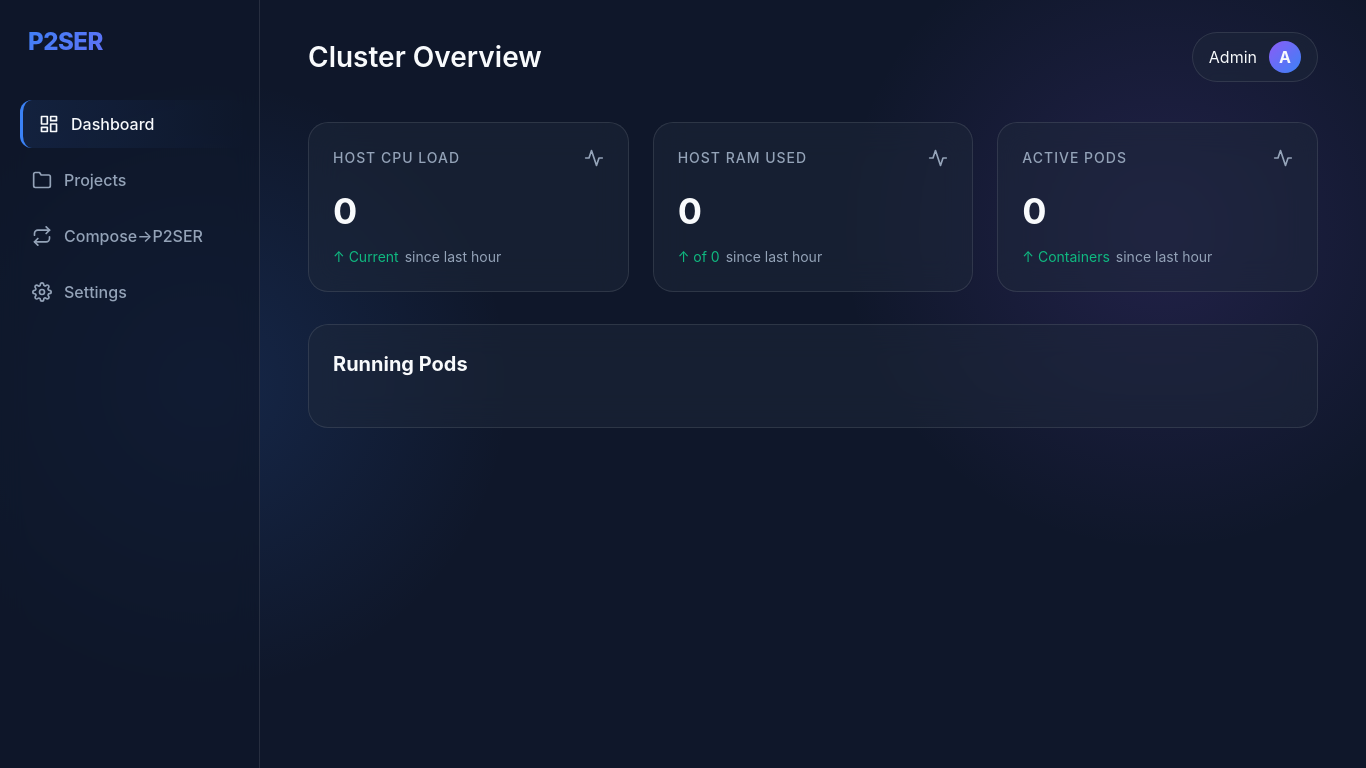
App: Navigation › should switch to Projects tab
This screenshot has width=1366, height=768.
Step 1. Click the list item "Projects" → [79, 180], box [32,170,126,190]
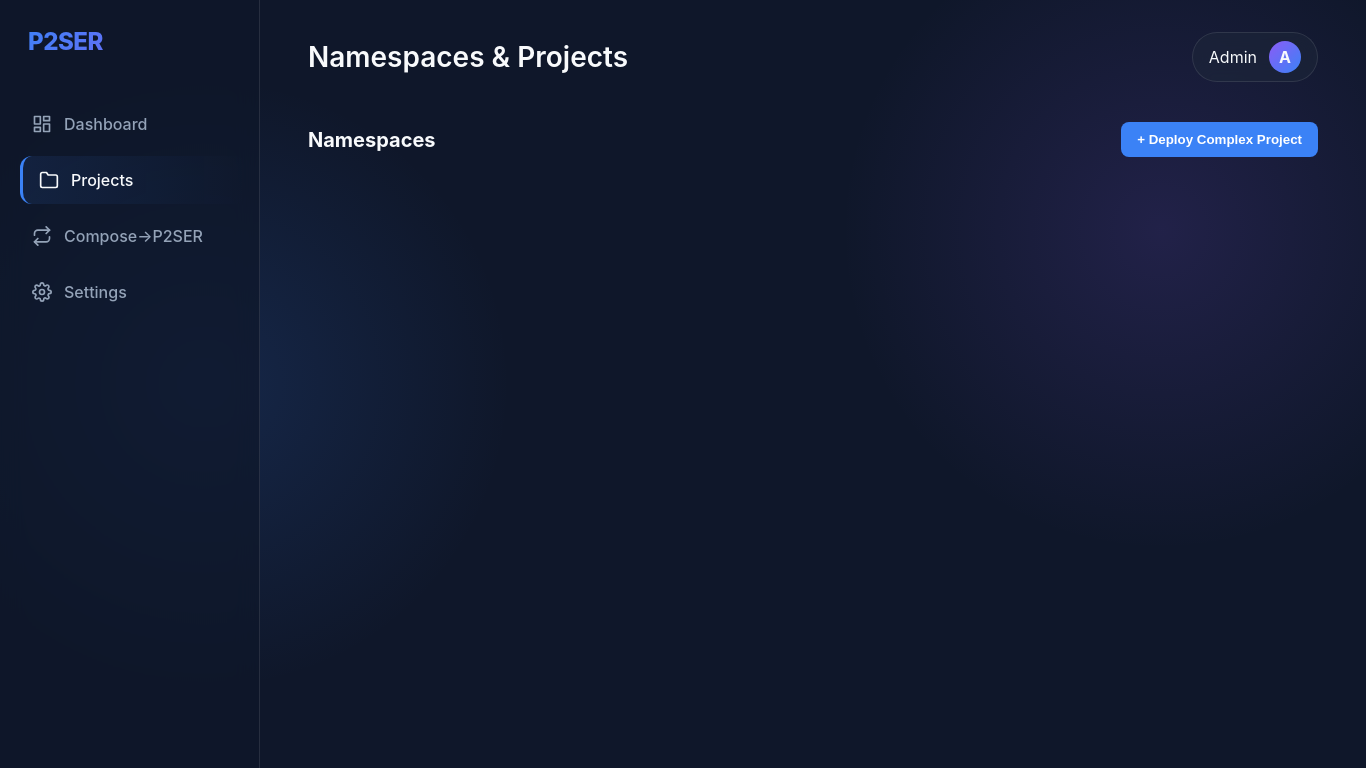
Result: the heading "Namespaces & Projects" is shown at [308,36,628,78]
Result: the heading "Namespaces" is shown at [308,124,436,154]
Result: the button "+ Deploy Complex Project" is shown at [1121,122,1318,157]
